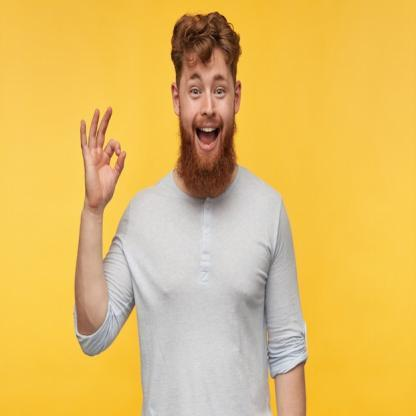ok: (76, 106, 130, 209)
